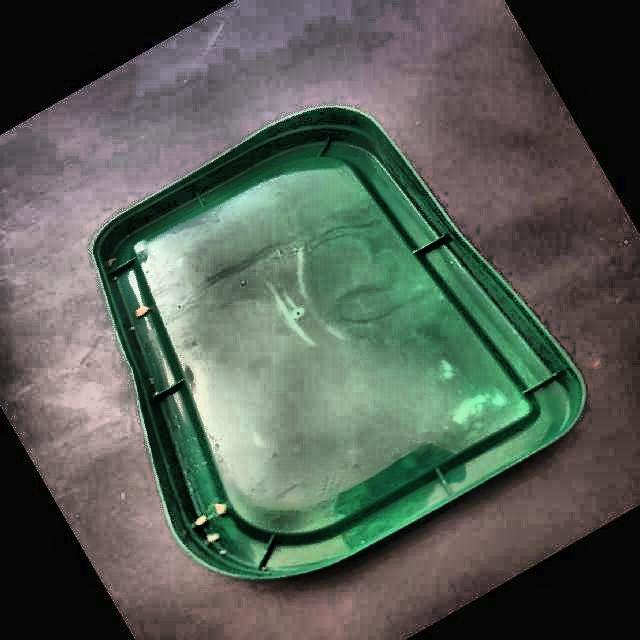plastic: (94, 108, 585, 579)
